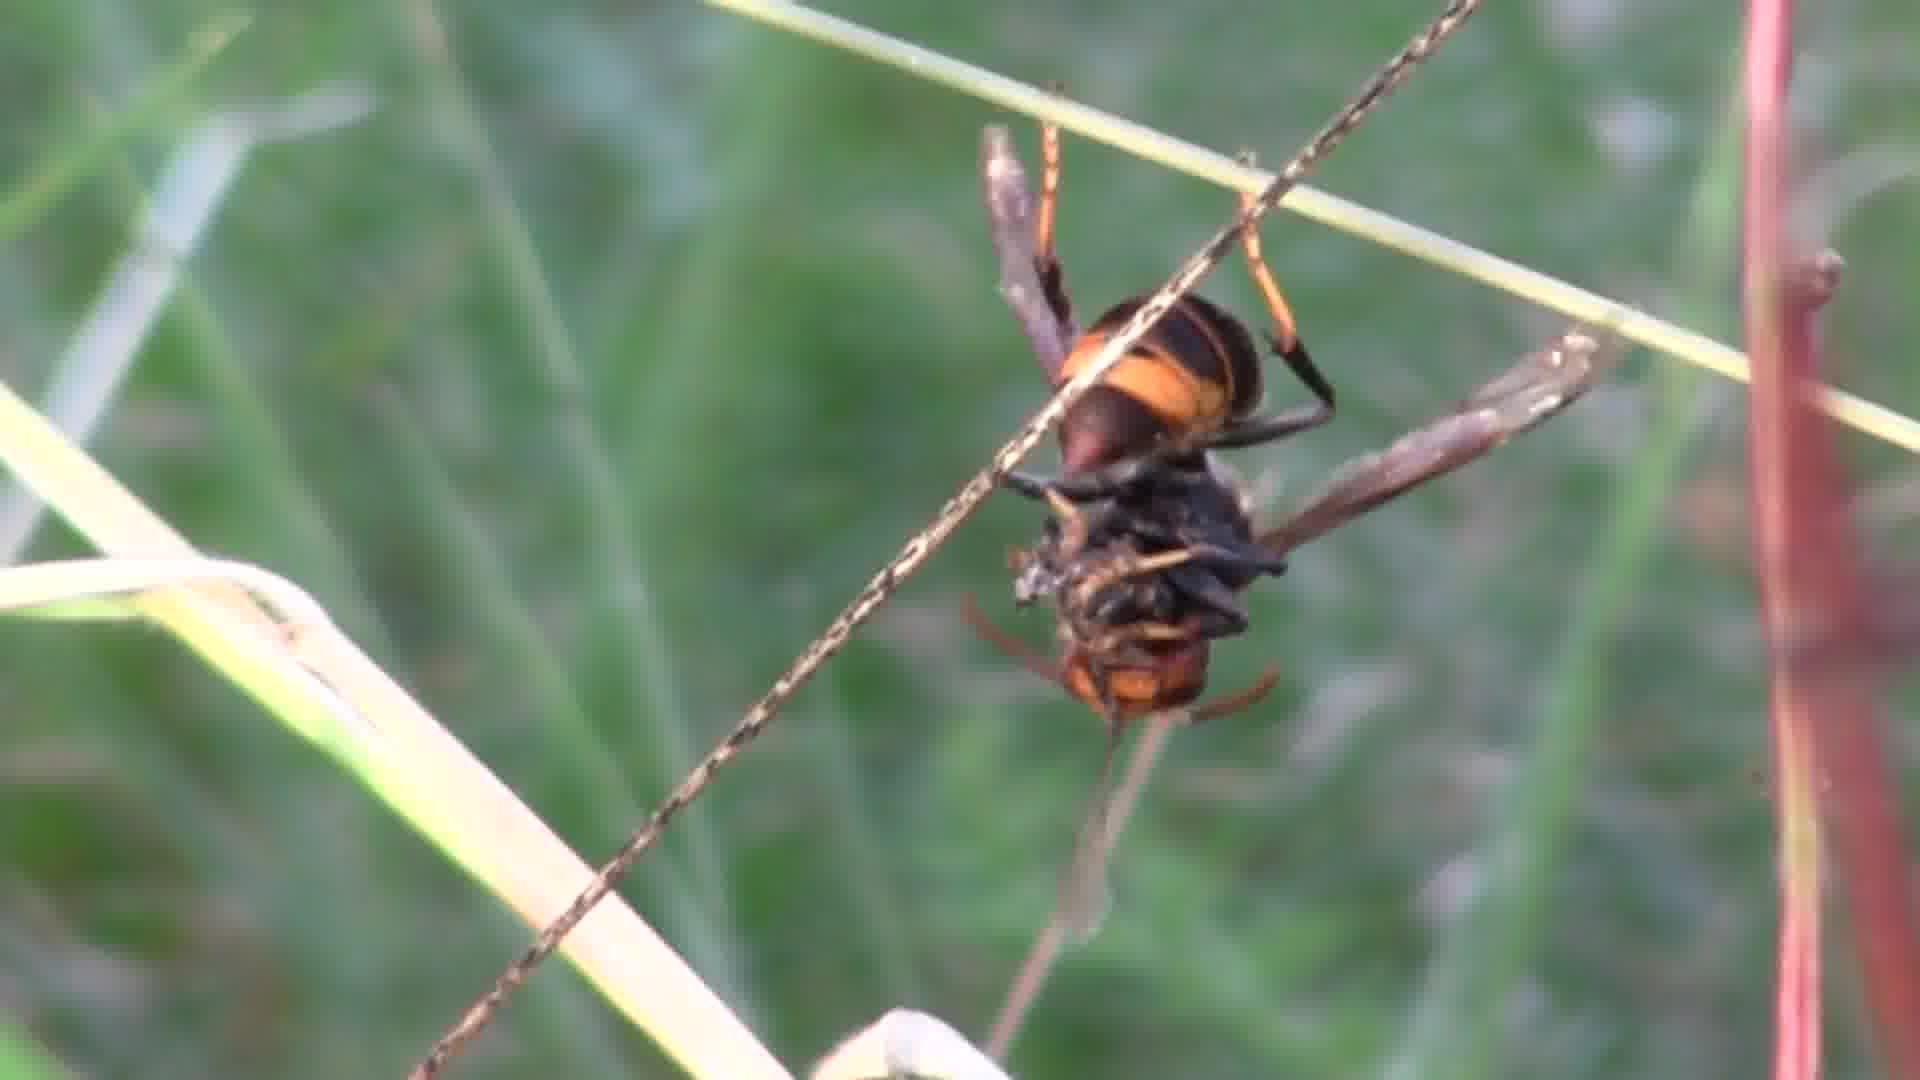hornet: (955, 164, 1362, 773)
